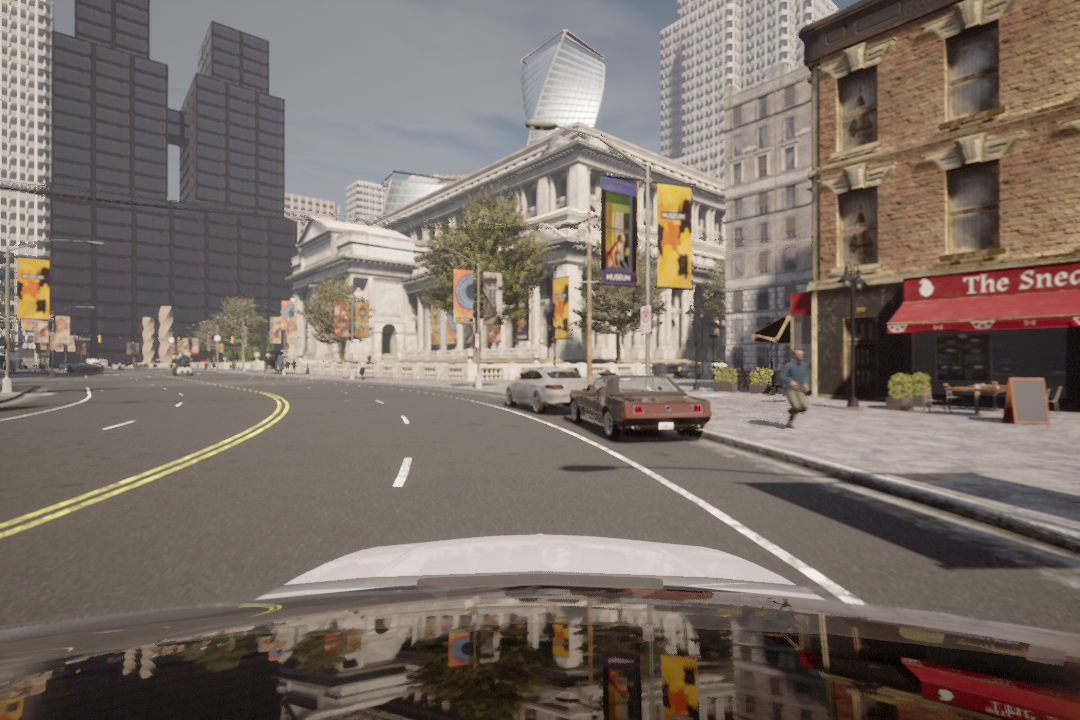TrafficSign_nstop: (641, 306, 652, 331)
